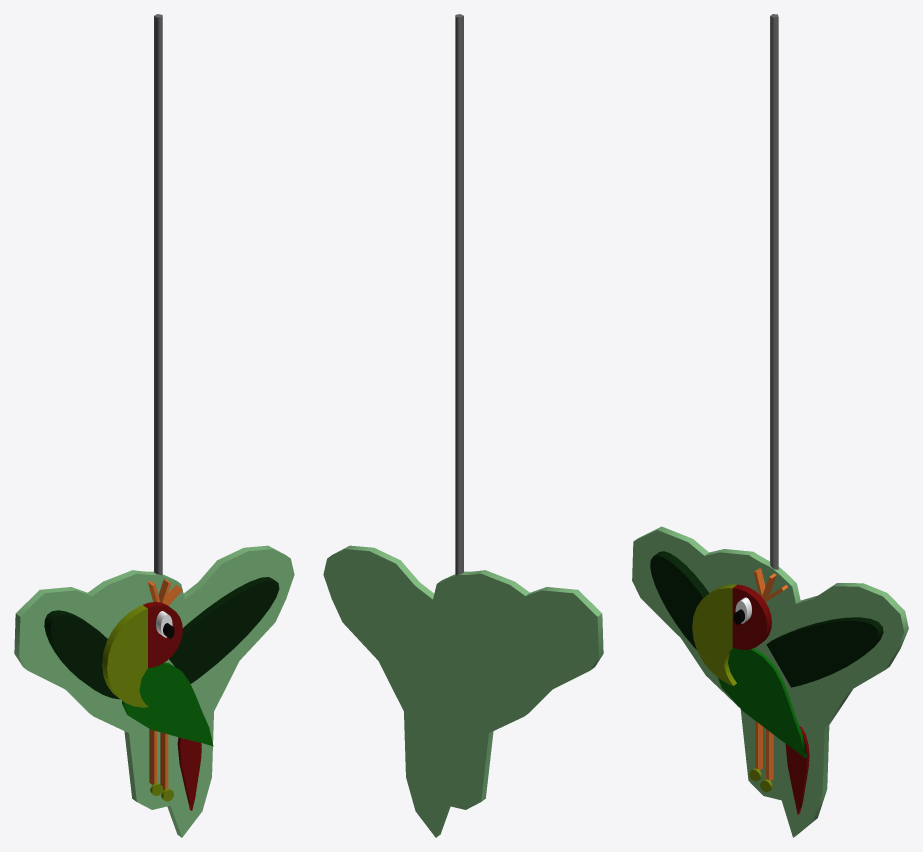
Rendered from Pajaro.fbx.
3 views of the same model, side by side, from view 1: azimuth 30°, elevation 25°; view 2: azimuth 150°, elevation 25°; view 3: azimuth 330°, elevation 25° (orthographic).
Parts seen in each view (by area): view 1: Ellipse001; view 2: Ellipse001; view 3: Ellipse001.
Part boxes in pixels (x1,y1,x2,y2): Ellipse001: (14, 14, 294, 837); Ellipse001: (323, 14, 603, 837); Ellipse001: (632, 14, 908, 837).
Size of the model in its own units: 31.8 by 91.05 by 5.45.
